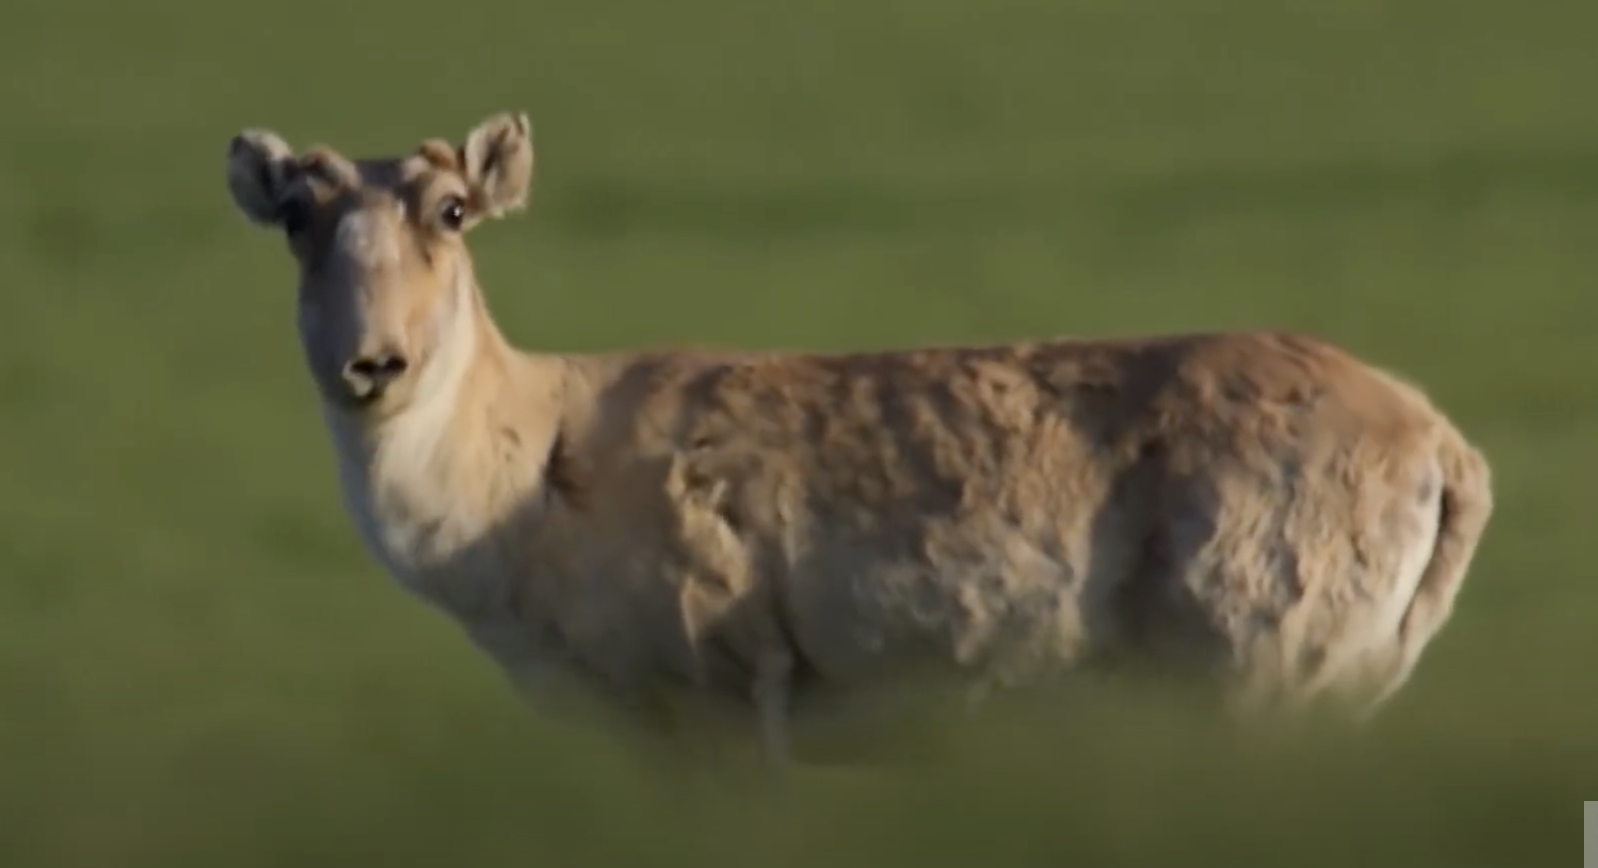saiga: (186, 117, 1524, 715)
